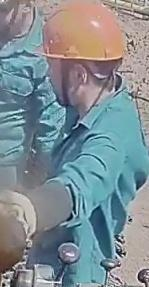gloves: (0, 188, 43, 270)
helmet: (35, 0, 124, 65)
vest: (25, 80, 148, 286), (1, 12, 47, 168)
